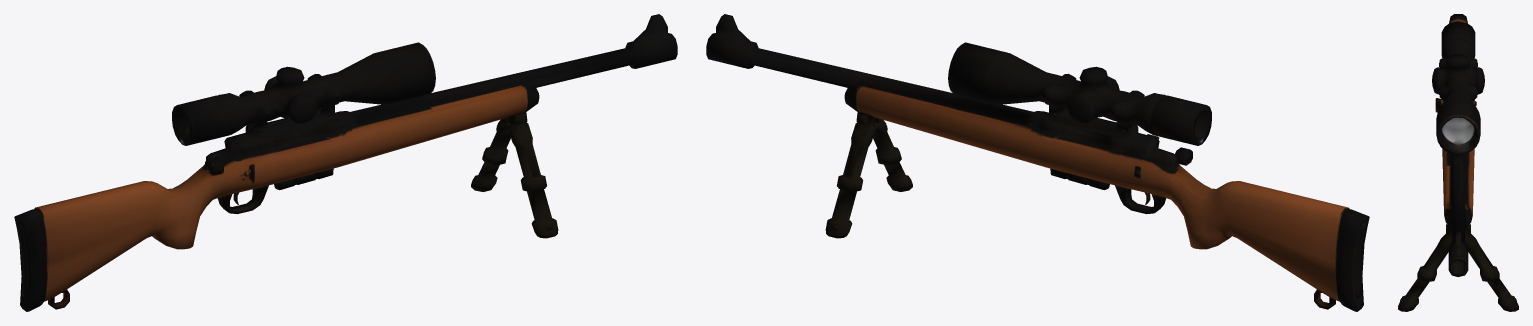
Rendered from rifle.glb.
3 views of the same model, side by side, from view 1: azimuth 30°, elevation 25°; view 2: azimuth 150°, elevation 25°; view 3: azimuth 270°, elevation 25° (orthographic). The views are drawn at different scales.
Parts seen in each view (by area): view 1: material; view 2: material; view 3: material.
Boxes of the visible parts, x1=… form: material: x1=14, y1=14, x2=677, y2=311; material: x1=706, y1=14, x2=1369, y2=311; material: x1=1398, y1=14, x2=1518, y2=311.
Size of the model in its own units: 1.9 by 0.537 by 0.369.
Materials: 1 (1 with a texture image).
